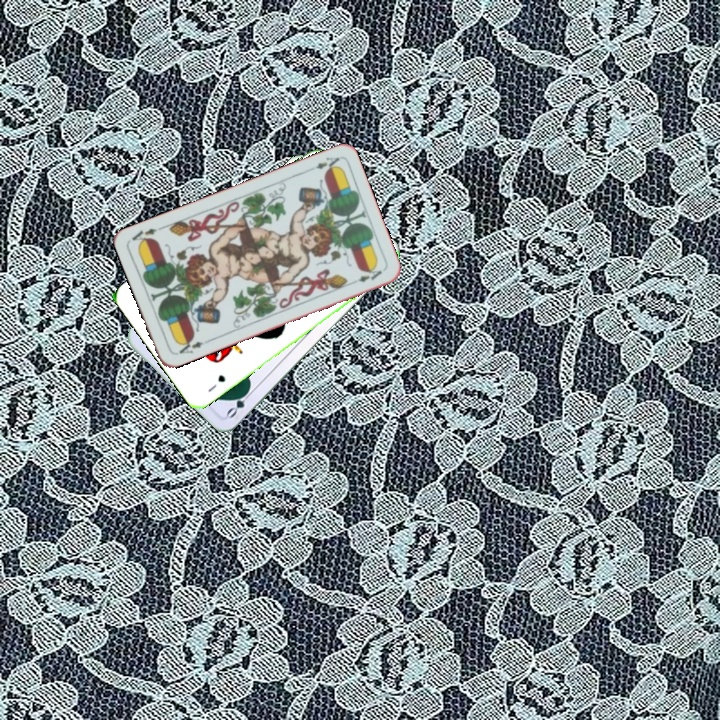EA: (172, 335, 211, 357), (311, 153, 342, 174)
GO: (222, 384, 256, 421)
GU: (204, 370, 228, 395)
